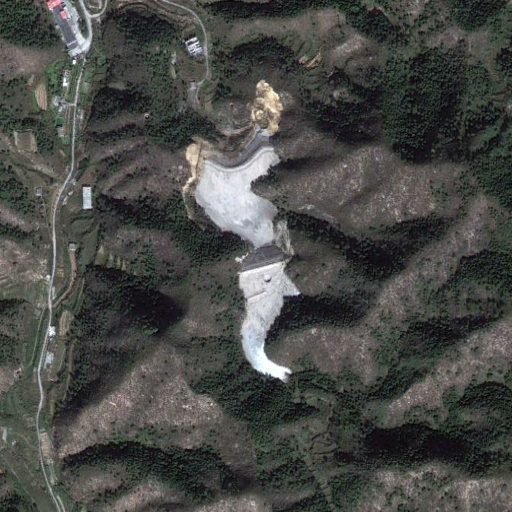tp: (194, 137, 299, 383)
